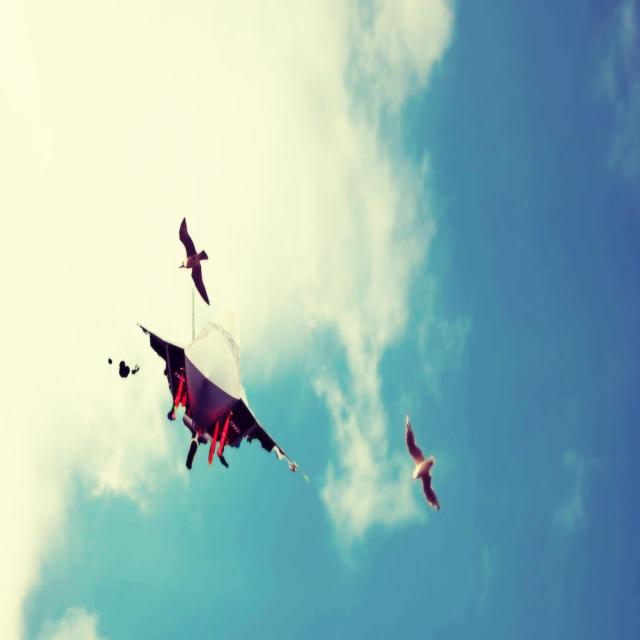airplane: (136, 287, 299, 475)
